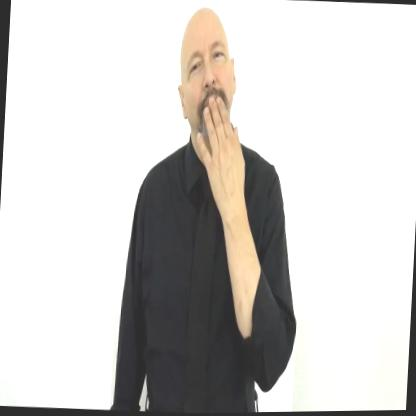ThankYou: (109, 0, 313, 415)
